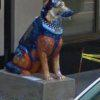Statue: (10, 5, 77, 79)
